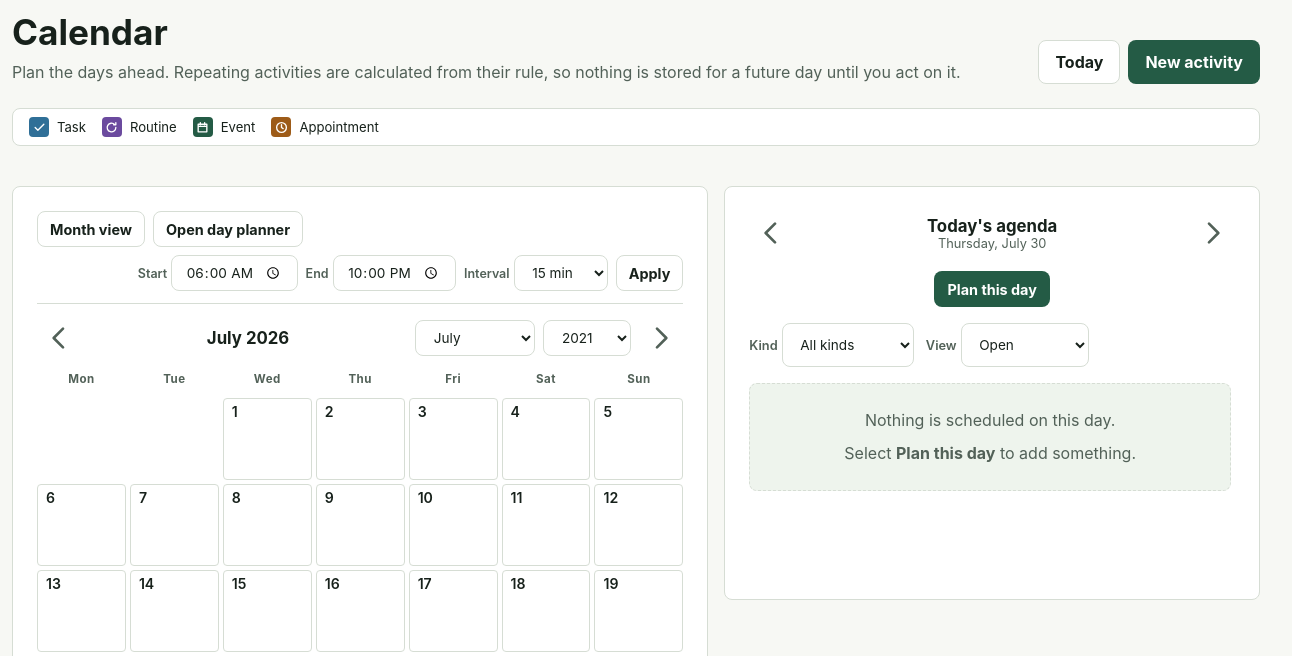
CalendarComponent › month navigation › jumps straight to a year chosen from the picker
Select "2028" in the dropdown with id "toolbar-year": {"x": 587, "y": 338} [543,320,631,356]
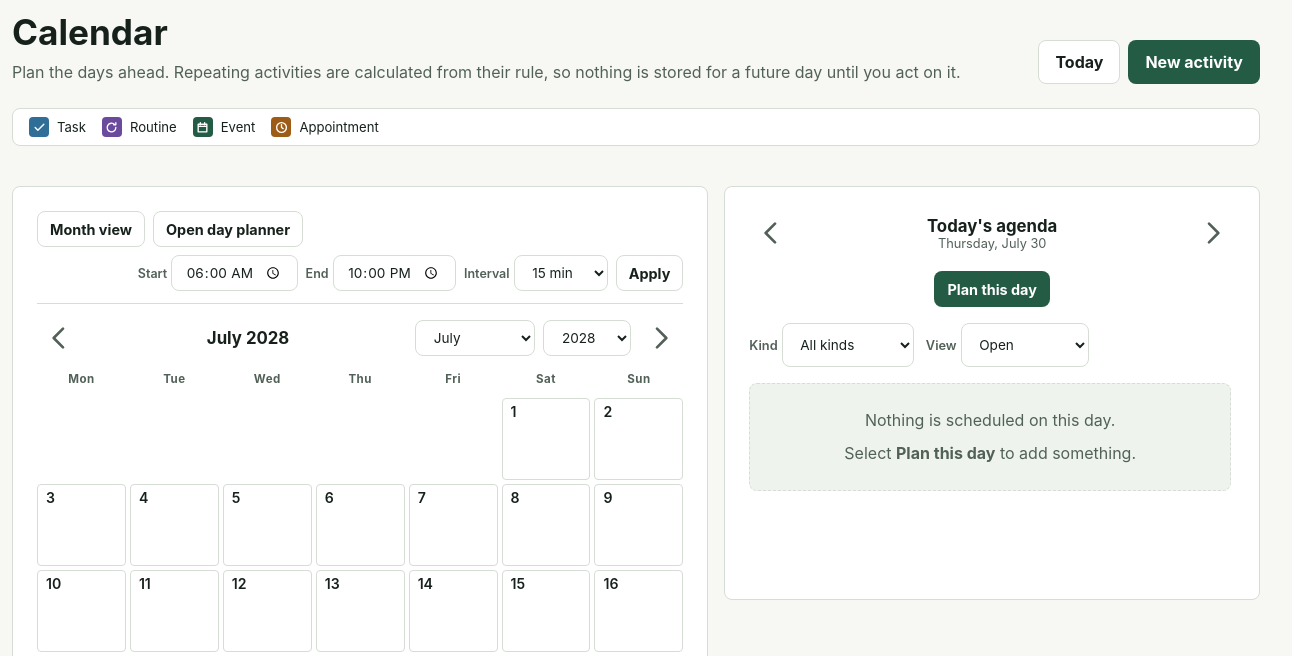
Result: the heading with id "month-title" reads "July 2028" at [207,328,289,348]
